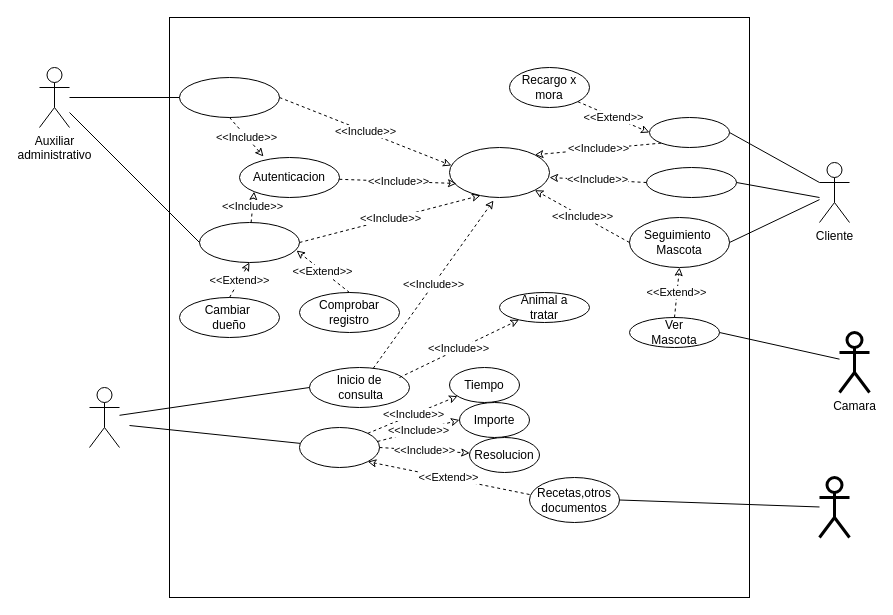
This 893x615 diagram has some shape labels left out. The shapes that lost their labels are listed below. From the top down, each one's box as (x1, y1, x2, y2) in pixels, then its label:
(178, 76, 280, 118): Gestión de clientes
(648, 116, 730, 148): Pagos
(448, 146, 550, 198): Consulta Base datos
(646, 166, 736, 198): Historico
(198, 222, 300, 262): Gestión de mascotas
(88, 386, 120, 448): veterinario
(298, 426, 380, 468): Fin Consulta
(818, 476, 850, 538): Gestor de contenidos
